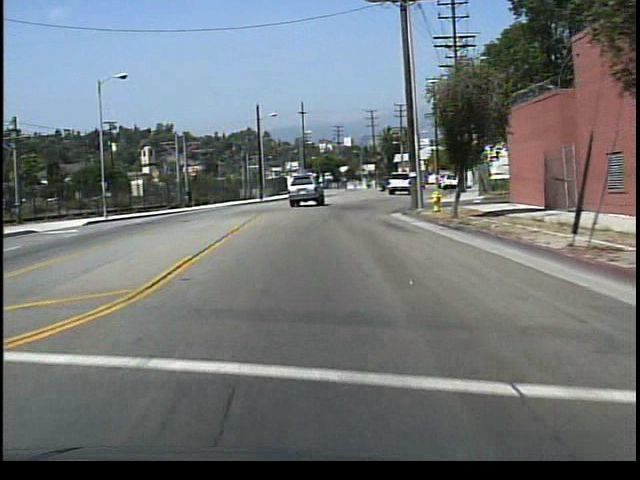person: (186, 187, 195, 208)
